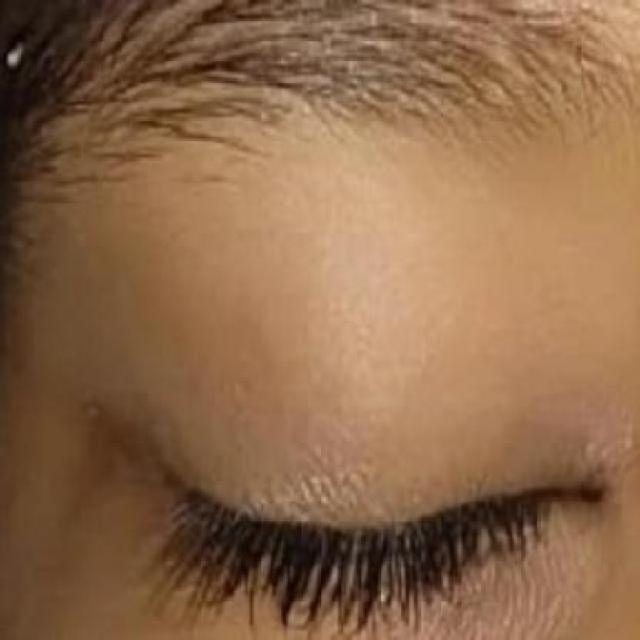drowsy: (160, 390, 605, 639)
